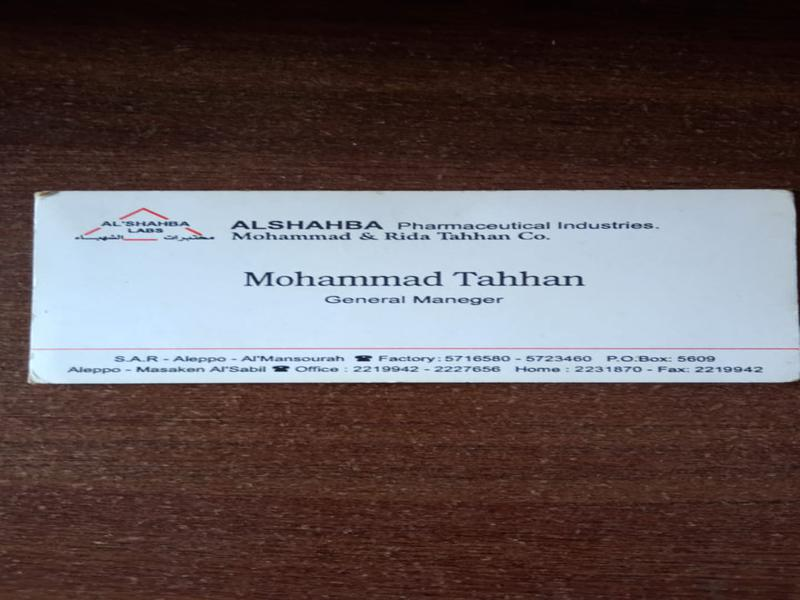card: (20, 185, 800, 387)
